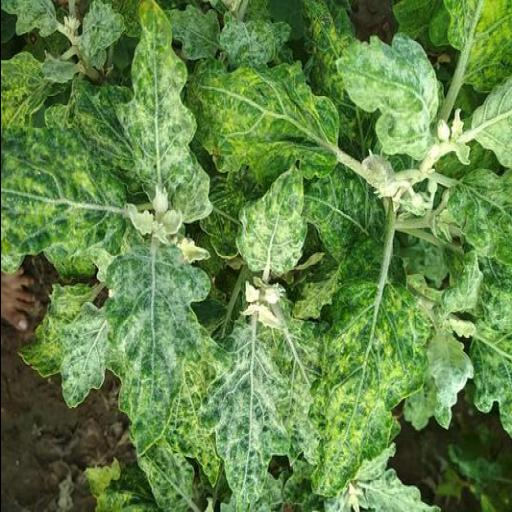Mosaic Virus: (306, 283, 432, 501), (100, 244, 212, 460), (110, 0, 214, 224), (188, 62, 340, 183), (0, 119, 128, 256), (332, 32, 438, 162), (234, 166, 306, 278), (56, 304, 110, 410)
